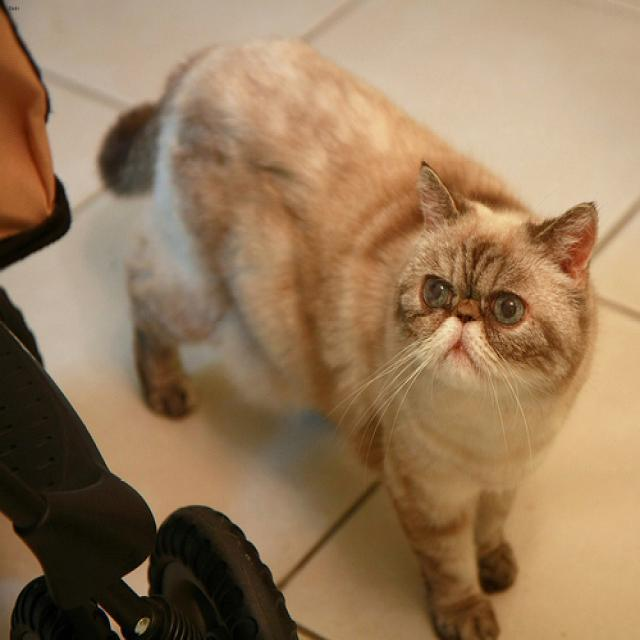Persian: (397, 159, 596, 388)
